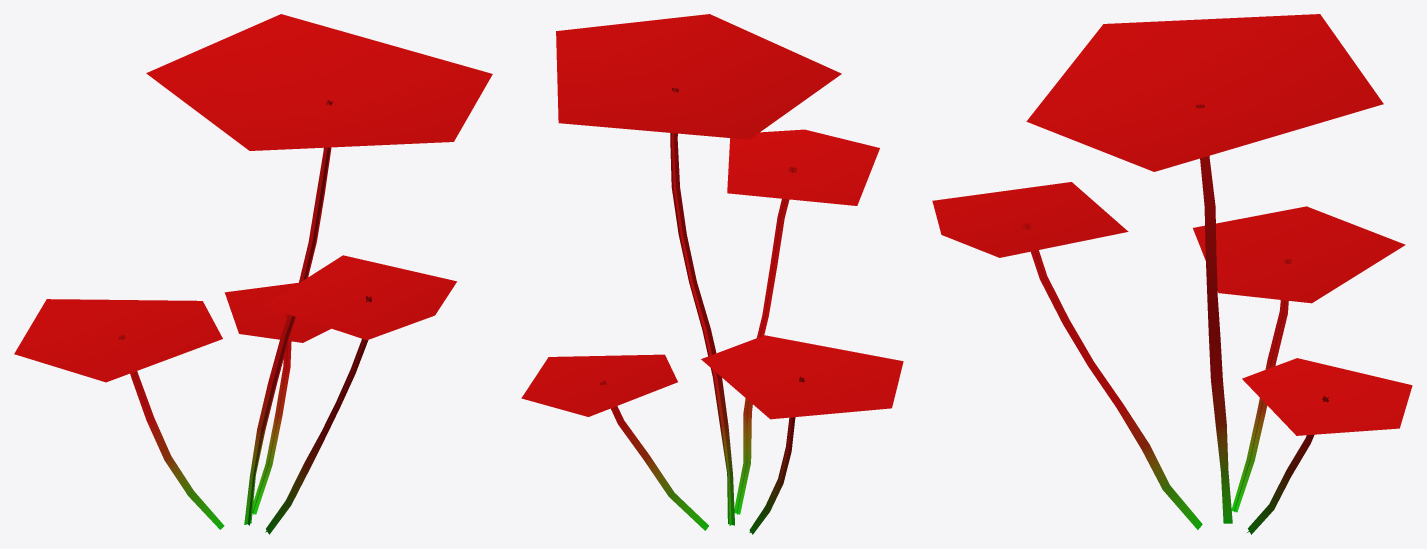
Rendered from Wood Sorrel_LOD1_Var13_wcwmchzja.fbx.
The picture shows the model from 3 angles, left to right: view 1: azimuth 30°, elevation 25°; view 2: azimuth 150°, elevation 25°; view 3: azimuth 270°, elevation 25°; orthographic projection. The views are drawn at different scales.
Parts seen in each view (by area): view 1: _ajnw_Var13_LOD1; view 2: _ajnw_Var13_LOD1; view 3: _ajnw_Var13_LOD1.
Boxes of the visible parts, x1,y1,x2,y2 form: _ajnw_Var13_LOD1: (14,14,492,534); _ajnw_Var13_LOD1: (521,14,903,534); _ajnw_Var13_LOD1: (932,14,1412,534).
Bounding box in the file's own units: 10.11 × 10.33 × 9.36.
